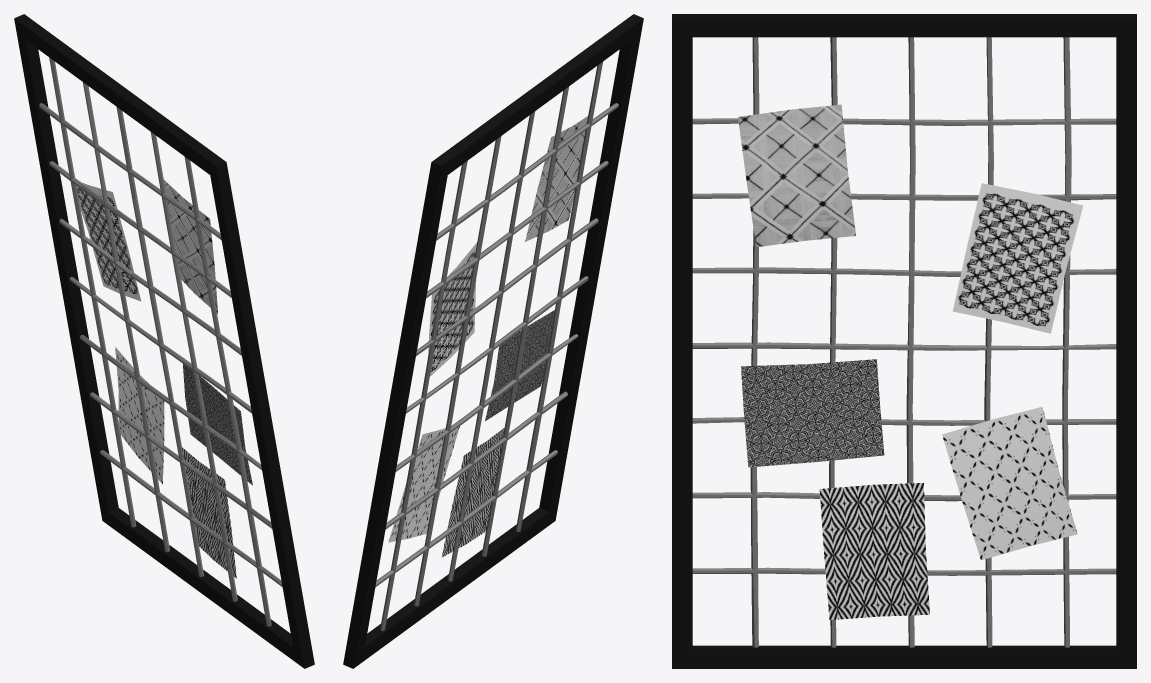
File: PictureBoard.fbx
3 renders of one model, left to right at view 1: azimuth 30°, elevation 25°; view 2: azimuth 150°, elevation 25°; view 3: azimuth 270°, elevation 25°, orthographic. The views are drawn at different scales.
Visible parts, largest first — view 1: Cube.001, Cylinder.002, Cylinder, Plane.006, Plane.005, Plane.004, Plane.003, Plane.007; view 2: Cube.001, Cylinder.002, Cylinder, Plane.005, Plane.007, Plane.003, Plane.006, Plane.004; view 3: Cube.001, Plane.003, Plane.007, Plane.006, Plane.004, Plane.005, Cylinder, Cylinder.002.
Part boxes in pixels (x1,y1,x2,y2): Cube.001: [14, 14, 314, 668]; Cylinder.002: [49, 57, 271, 626]; Cylinder: [39, 103, 282, 586]; Plane.006: [115, 347, 164, 484]; Plane.005: [183, 364, 252, 485]; Plane.004: [76, 182, 141, 301]; Plane.003: [163, 179, 217, 313]; Plane.007: [182, 447, 236, 578]; Cube.001: [343, 14, 643, 668]; Cylinder.002: [380, 61, 603, 631]; Cylinder: [375, 103, 618, 587]; Plane.005: [485, 310, 554, 421]; Plane.007: [441, 427, 504, 557]; Plane.003: [525, 116, 587, 241]; Plane.006: [388, 426, 459, 542]; Plane.004: [428, 242, 477, 376]; Cube.001: [672, 14, 1136, 668]; Plane.003: [738, 104, 856, 247]; Plane.007: [819, 483, 929, 619]; Plane.006: [942, 406, 1077, 560]; Plane.004: [952, 183, 1083, 333]; Plane.005: [741, 359, 884, 467]; Cylinder: [692, 118, 1116, 575]; Cylinder.002: [750, 37, 1071, 647].
Bounding box in the file's own units: 29.67 × 151 × 106.
